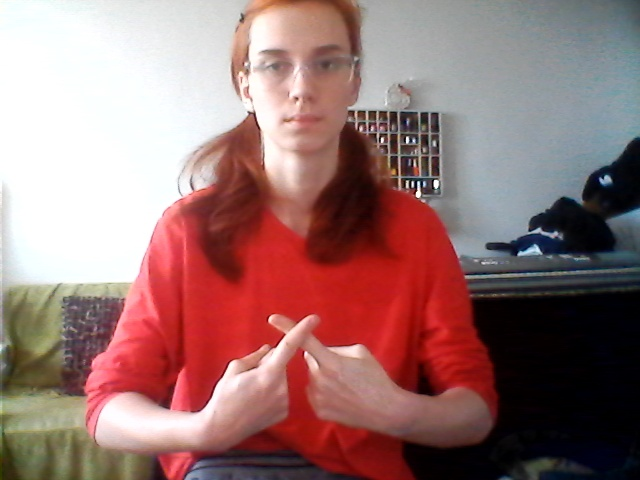x: (211, 303, 388, 450)
